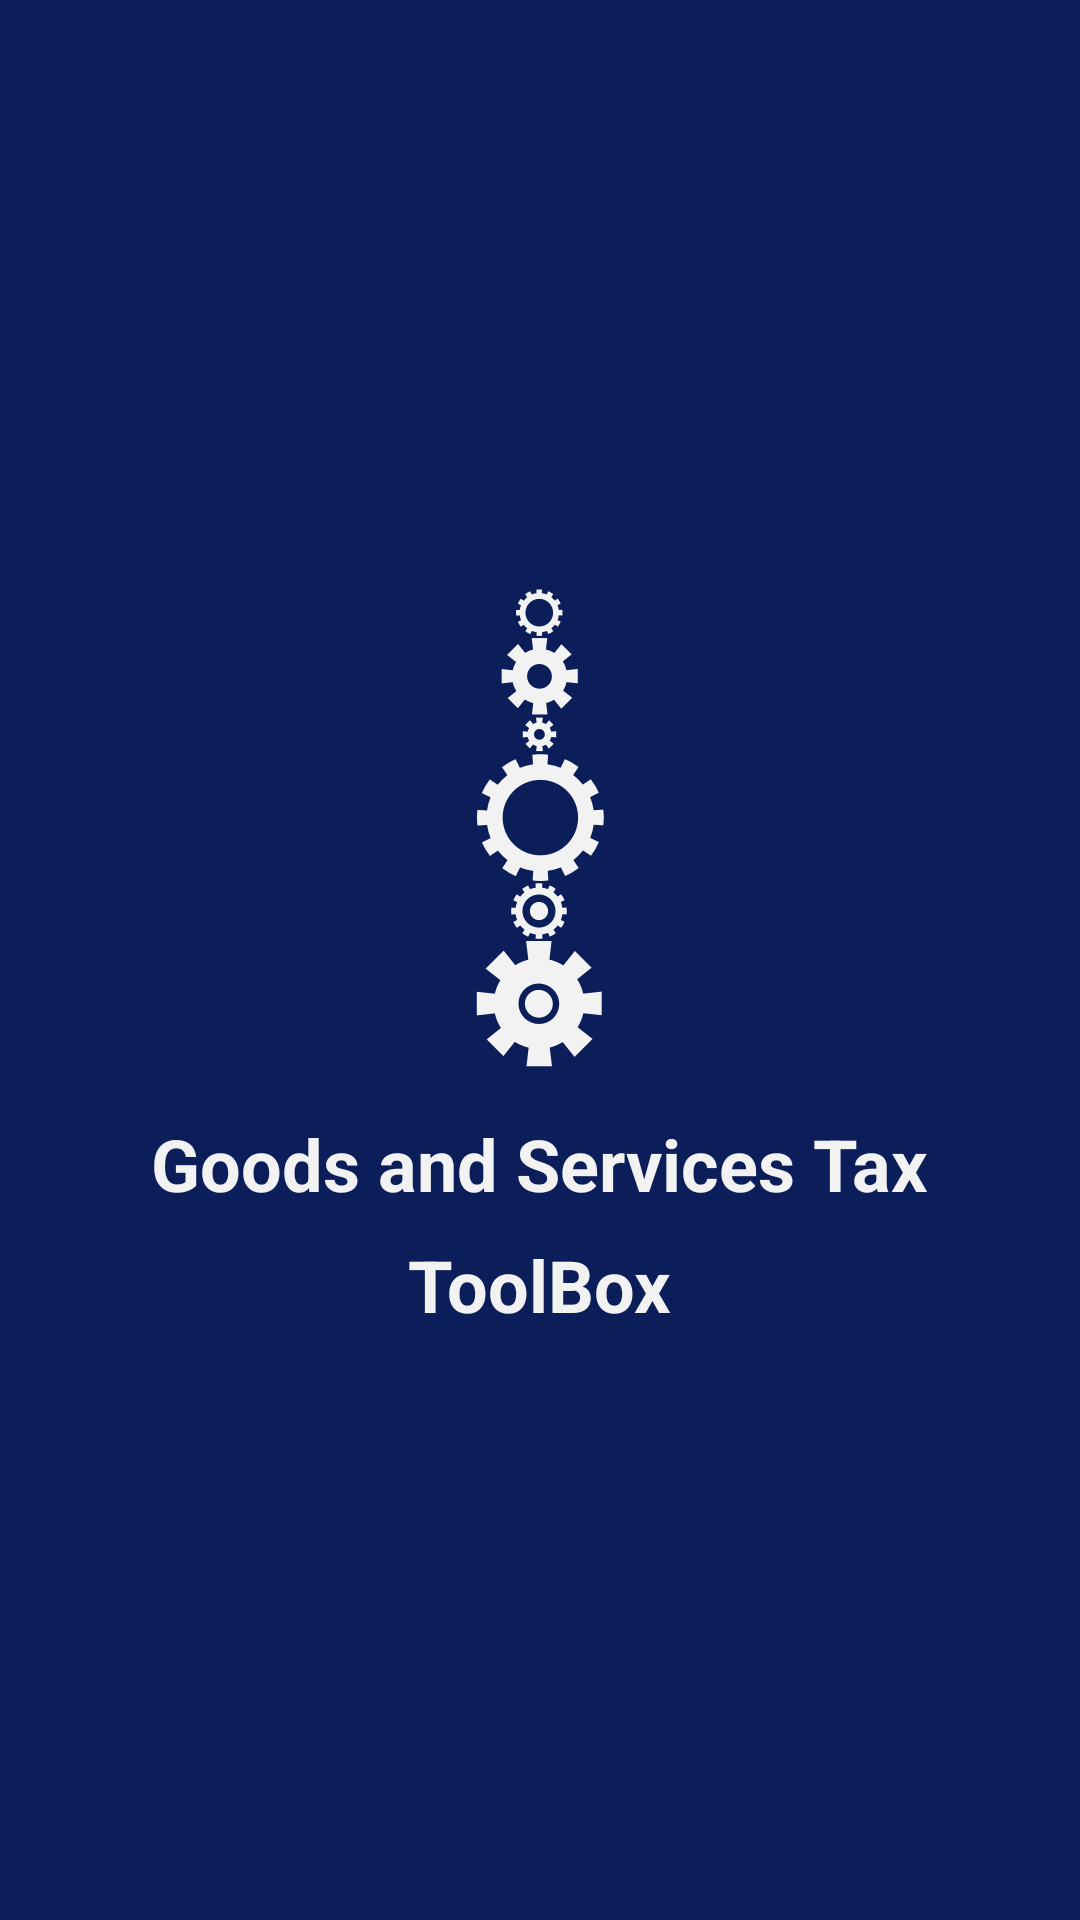

Icons on this 1080px x 1920px Android screen, each with its box as box(x1, y1, x2, y2):
wheel: box(516, 589, 563, 636), box(501, 638, 578, 715), box(522, 717, 557, 751), box(477, 754, 604, 881), box(511, 883, 567, 939), box(476, 941, 602, 1067)
